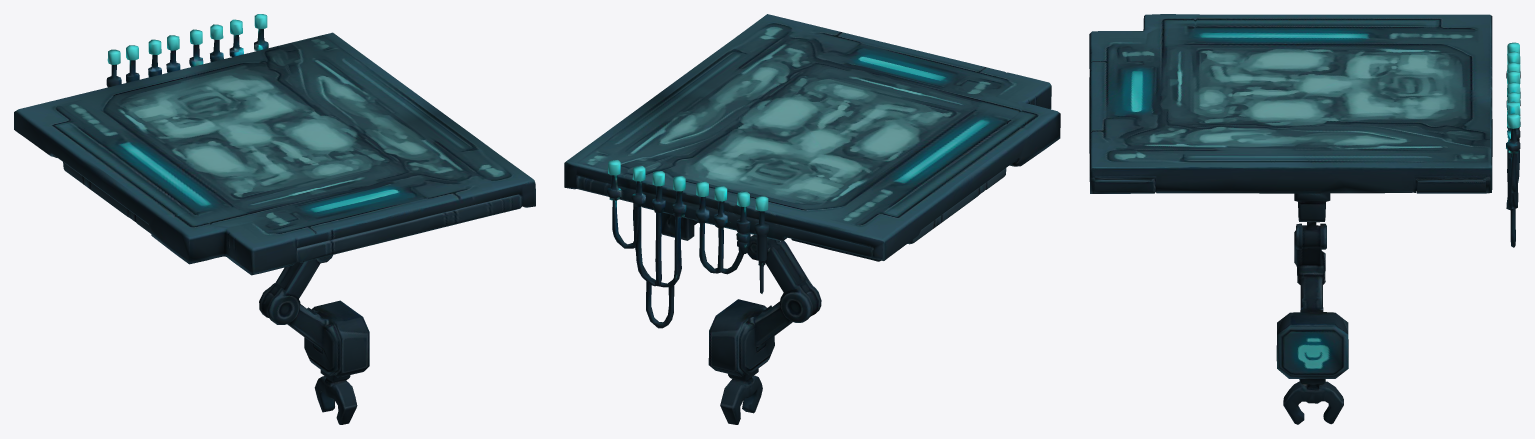
Rendered from CeilingZone4.fbx.
3 renders of one model, left to right at view 1: azimuth 30°, elevation 25°; view 2: azimuth 150°, elevation 25°; view 3: azimuth 270°, elevation 25°, orthographic.
Parts seen in each view (by area): view 1: tripo_node_9b29114d; view 2: tripo_node_9b29114d; view 3: tripo_node_9b29114d.
Part boxes in pixels (x1,y1,x2,y2): tripo_node_9b29114d: [14, 14, 535, 424]; tripo_node_9b29114d: [564, 14, 1060, 424]; tripo_node_9b29114d: [1089, 14, 1520, 424].
Bounding box in the file's own units: 0.8538 × 0.8195 × 0.9998.
Materials: 1 (1 with a texture image).
